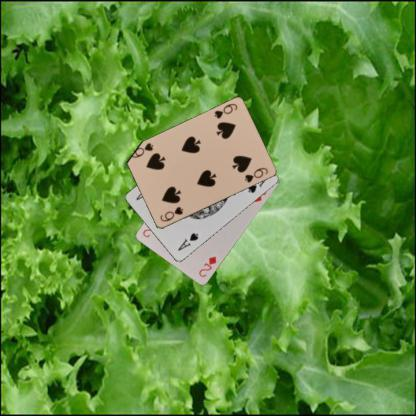2d: (196, 254, 218, 278)
6s: (157, 204, 184, 223), (211, 101, 238, 120)
As: (174, 230, 200, 252)
